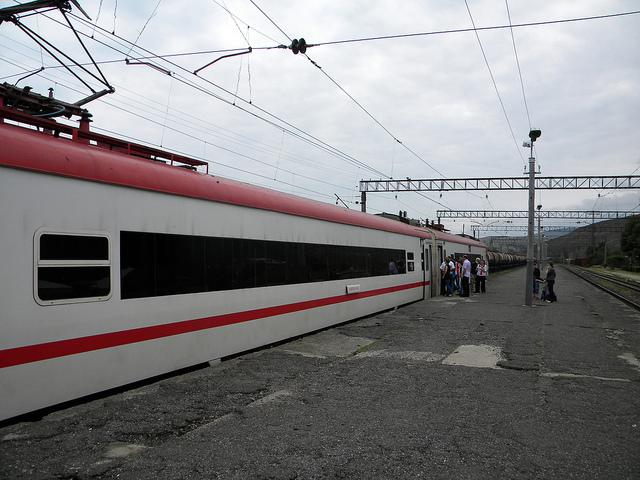Train: (0, 121, 493, 425)
